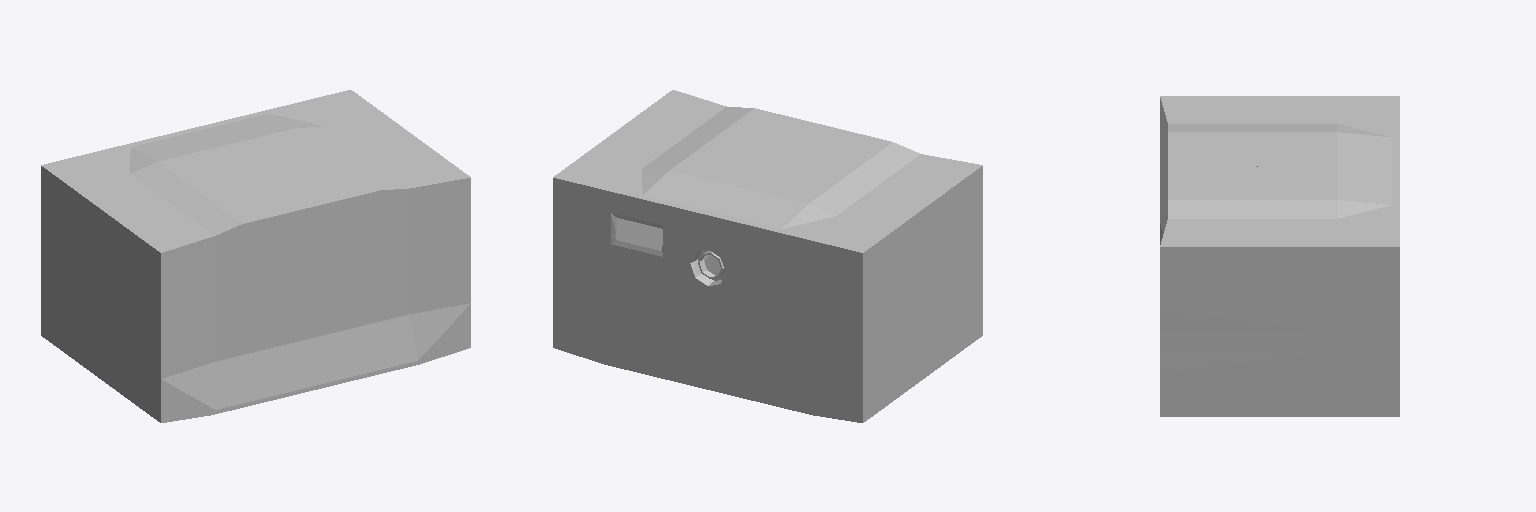
The model's file is tnk2.obj.
The picture shows the model from 3 angles: view 1: azimuth 30°, elevation 25°; view 2: azimuth 150°, elevation 25°; view 3: azimuth 270°, elevation 25°; orthographic projection.
Parts seen in each view (by area): view 1: Cube; view 2: Cube; view 3: Cube.
Boxes of the visible parts, box(x1,y1,x2,y2) form: Cube: box(41, 90, 470, 422); Cube: box(553, 90, 982, 422); Cube: box(1160, 96, 1399, 416).
Size of the model in its own units: 15.02 by 8.31 by 10.07.